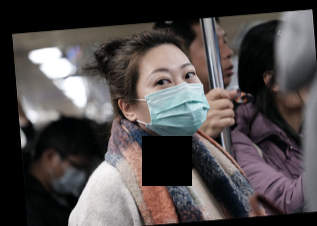with_mask: (135, 61, 210, 144), (50, 157, 92, 198)
without_mask: (191, 30, 237, 90)
